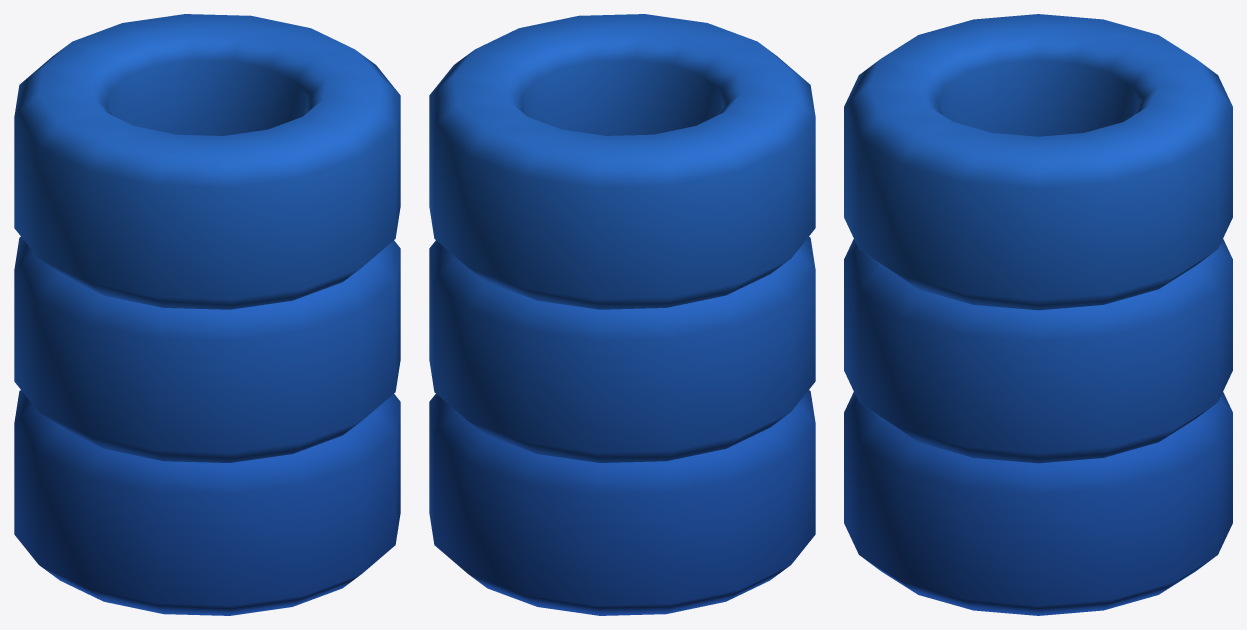
Rendered from Barrier_Wheel_02.fbx.
3 renders of one model, left to right at view 1: azimuth 30°, elevation 25°; view 2: azimuth 150°, elevation 25°; view 3: azimuth 270°, elevation 25°, orthographic.
Visible parts, largest first — view 1: Barrier_Wheel_02; view 2: Barrier_Wheel_02; view 3: Barrier_Wheel_02.
Boxes of the visible parts, bbox=[...] form: Barrier_Wheel_02: bbox=[14, 14, 400, 615]; Barrier_Wheel_02: bbox=[429, 14, 815, 615]; Barrier_Wheel_02: bbox=[844, 14, 1232, 615].
Size of the model in its own units: 100 by 100 by 130.
